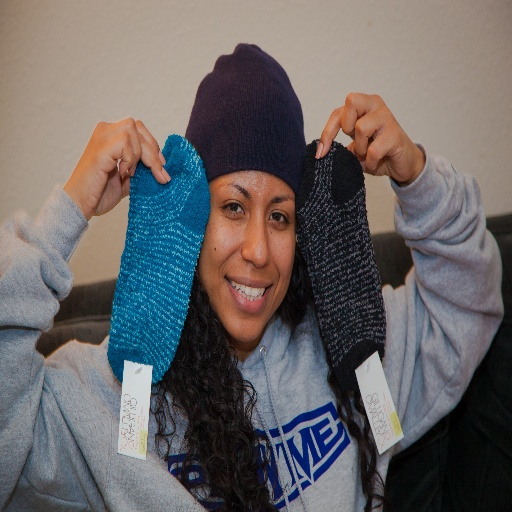hand: (71, 117, 171, 216), (324, 96, 427, 183)
